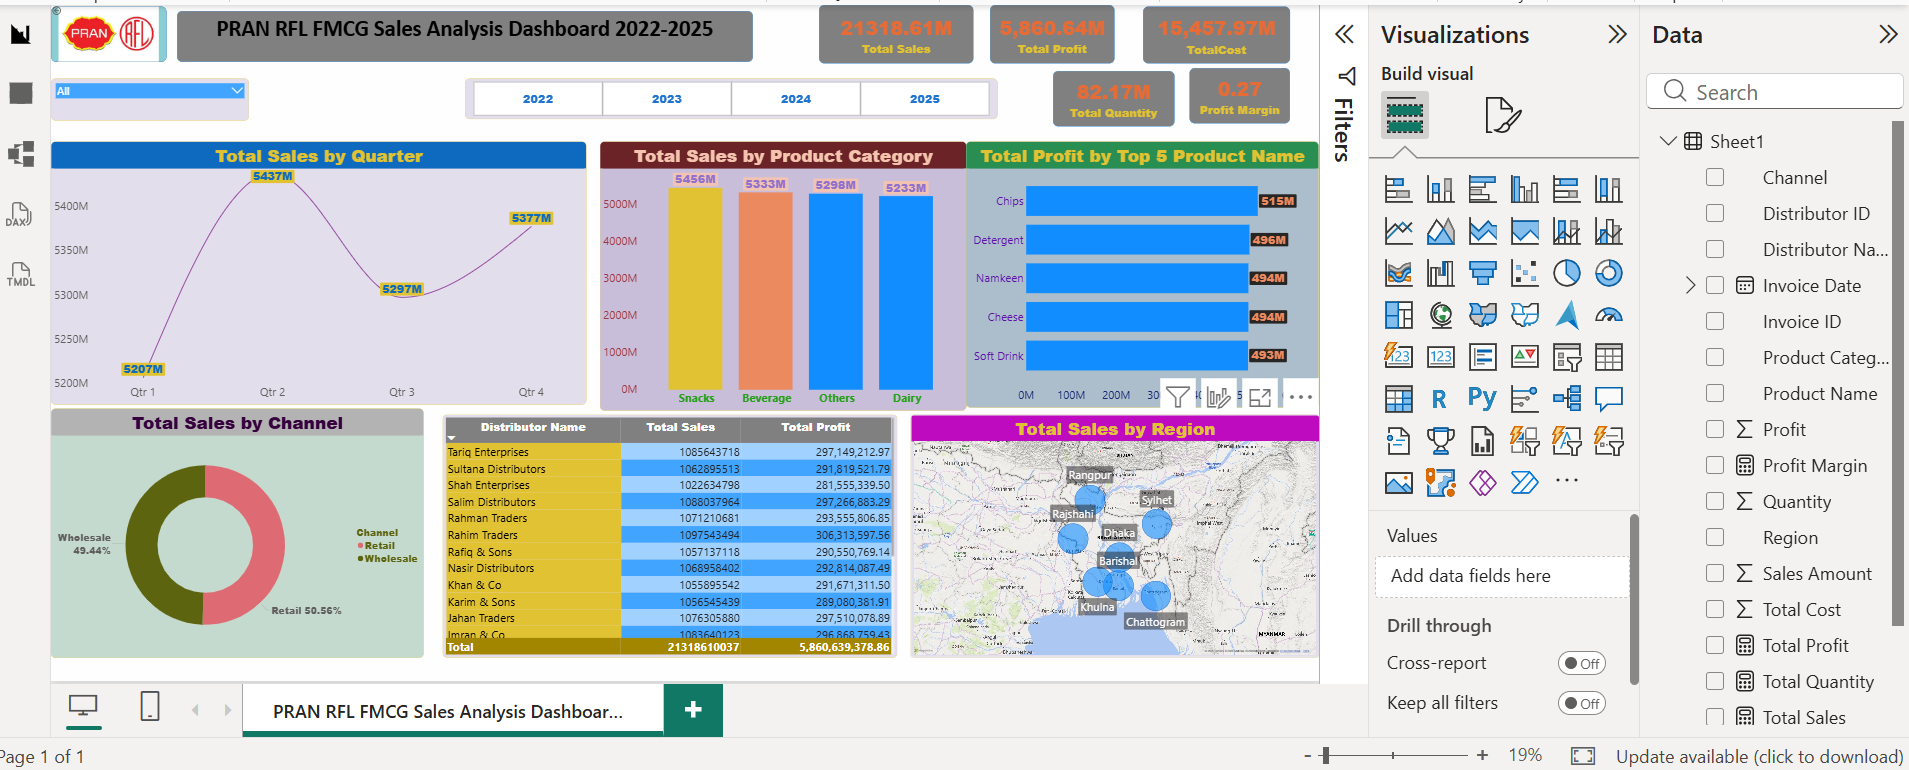

What the dashboard file says about the page in this screenshot:
{"tool":"powerbi","page":{"name":"Page 1","canvas":[4500,2400],"ordinal":0},"visuals":[{"type":"image","box":[0,3.4,265.5,196.6],"z":0},{"type":"lineChart","fields":{"Category":["Sheet1.Invoice Date.Variation.Date Hierarchy.Year","Sheet1.Invoice Date.Variation.Date Hierarchy.Quarter","Sheet1.Invoice Date.Variation.Date Hierarchy.Month","Sheet1.Invoice Date.Variation.Date Hierarchy.Day"],"Y":["Sheet1.Total Sales"]},"box":[0,485.8,1899.9,933.8],"z":1000},{"type":"card","fields":{"Values":["Sheet1.Total Sales"]},"box":[2601.6,0,550.5,205.1],"z":2000},{"type":"card","fields":{"Values":["Sheet1.TotalCost"]},"box":[3778.2,0,523.6,199.7],"z":3000},{"type":"card","fields":{"Values":["Sheet1.Total Quantity"]},"box":[3443.6,226.7,431.8,199.7],"z":4000},{"type":"card","fields":{"Values":["Sheet1.Total Profit"]},"box":[3216.9,0,442.6,205.1],"z":5000},{"type":"card","fields":{"Values":["Sheet1.Profit Margin"]},"box":[3945.5,226.7,356.2,199.7],"z":6000},{"type":"columnChart","fields":{"Category":["Sheet1.Product Category"],"Y":["Sheet1.Total Sales"]},"box":[1948.5,485.8,1300.8,955.3],"z":7000},{"type":"clusteredBarChart","title":"Total Profit by Top 5 Product Name","fields":{"Category":["Sheet1.Product Name"],"Y":["Sheet1.Total Profit"]},"box":[3249.3,485.8,1252.2,944.5],"z":8000},{"type":"donutChart","fields":{"Category":["Sheet1.Channel"],"Y":["Sheet1.Total Sales"]},"box":[0,1430.3,1322.4,885.2],"z":9000},{"type":"slicer","fields":{"Values":["Sheet1.Invoice Date.Variation.Date Hierarchy.Year"]},"box":[1462.7,226.7,1889.1,145.7],"z":10000},{"type":"actionButton","box":[0,0,100,40],"z":11000},{"type":"slicer","fields":{"Values":["Sheet1.Region"]},"box":[0,275.3,701.7,151.1],"z":12000},{"type":"tableEx","fields":{"Values":["Sheet1.Distributor Name","Sheet1.Total Sales","Sheet1.Total Profit"]},"box":[1387.1,1451.9,1613.8,863.6],"z":13000},{"type":"map","fields":{"Size":["Sheet1.Total Sales"],"Category":["Sheet1.Region"]},"box":[3049.5,1451.9,1451.9,863.6],"z":14000},{"type":"textbox","box":[302.3,21.6,1770.4,178.1],"z":15000}]}

Visuals, with their boxes on the page's 4500x2400 design canvas (x1, y1, x2, y2). These are canvas units, not pixel positions in the 1909x770 screenshot, which may show the page scaled, cropped or inside an application window:
image: 0:3:266:200
lineChart - Sheet1.Invoice Date.Variation.Date Hierarchy.Year x Sheet1.Invoice Date.Variation.Date Hierarchy.Quarter: 0:486:1900:1420
card - Sheet1.Total Sales: 2602:0:3152:205
card - Sheet1.TotalCost: 3778:0:4302:200
card - Sheet1.Total Quantity: 3444:227:3875:426
card - Sheet1.Total Profit: 3217:0:3660:205
card - Sheet1.Profit Margin: 3946:227:4302:426
columnChart - Sheet1.Product Category x Sheet1.Total Sales: 1948:486:3249:1441
"Total Profit by Top 5 Product Name" clusteredBarChart: 3249:486:4502:1430
donutChart - Sheet1.Channel x Sheet1.Total Sales: 0:1430:1322:2316
slicer - Sheet1.Invoice Date.Variation.Date Hierarchy.Year: 1463:227:3352:372
actionButton: 0:0:100:40
slicer - Sheet1.Region: 0:275:702:426
tableEx - Sheet1.Distributor Name x Sheet1.Total Sales: 1387:1452:3001:2316
map - Sheet1.Total Sales x Sheet1.Region: 3050:1452:4501:2316
textbox: 302:22:2073:200
